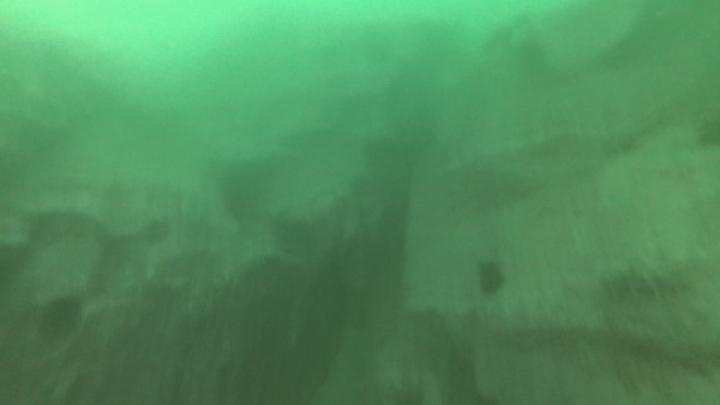echinus: (36, 294, 85, 343), (271, 215, 320, 260), (473, 257, 508, 299), (513, 36, 551, 74), (693, 113, 720, 153), (141, 216, 174, 248)
holothurian: (596, 256, 693, 304)
